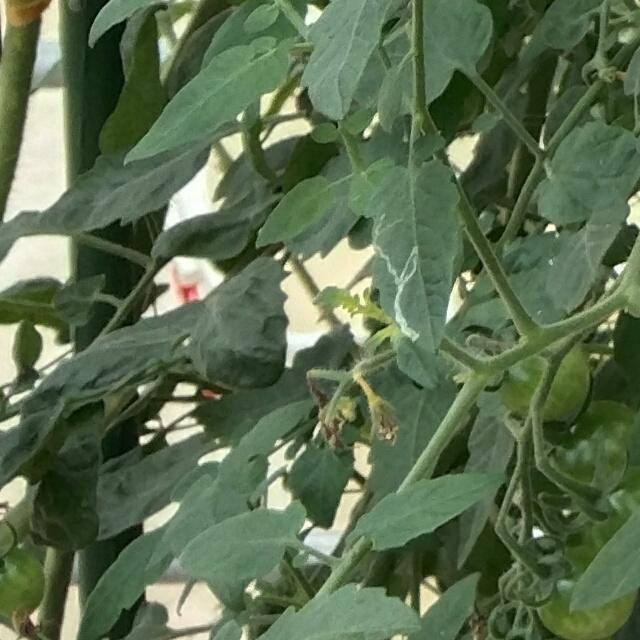Healthy: (116, 33, 298, 169), (355, 463, 511, 554), (175, 498, 309, 586), (299, 0, 393, 121), (255, 174, 335, 251)
Leaf_Miner: (366, 160, 470, 364)
